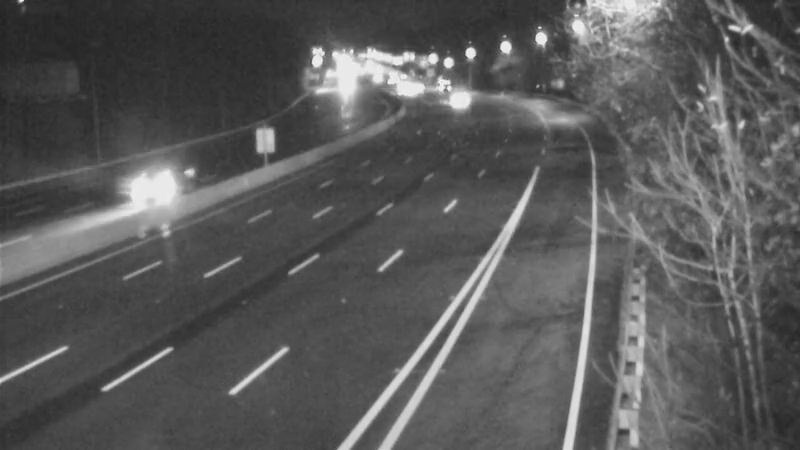vehicle: (109, 155, 189, 235), (419, 58, 469, 108), (430, 69, 480, 119)
